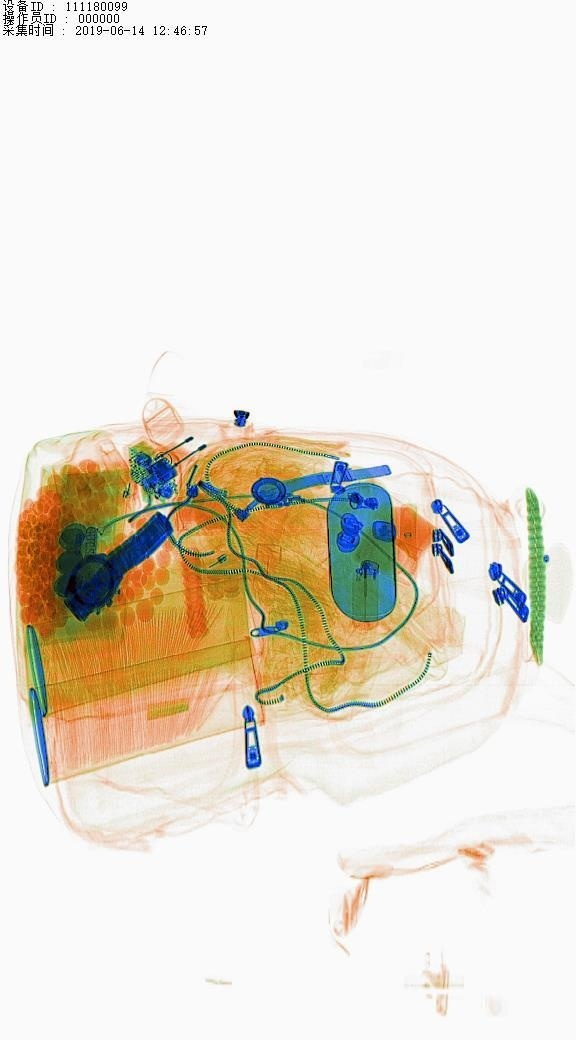NonmetallicFire: (350, 557, 392, 638)
